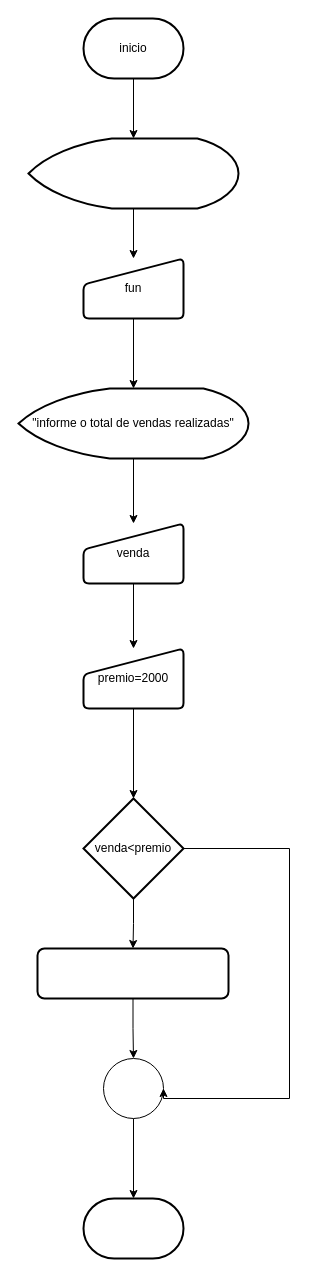
The diagram is 315 pixels wide and 1276 high, and some of its shapes have lost their labels. Each missing label, with the centre of its shape:
"infelizmente não houve premio": point (132, 973)
"informe o nome do funcionário": point (133, 173)
final: point (133, 1228)
